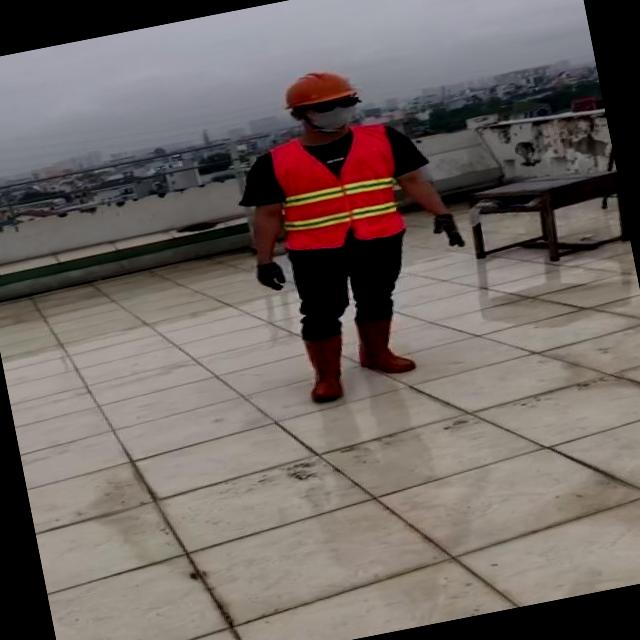boots: (352, 310, 422, 380), (298, 330, 356, 406)
gloves: (278, 65, 366, 142), (429, 208, 466, 253), (252, 258, 288, 296)
helmet: (282, 63, 364, 114)
vest: (264, 121, 408, 258)
